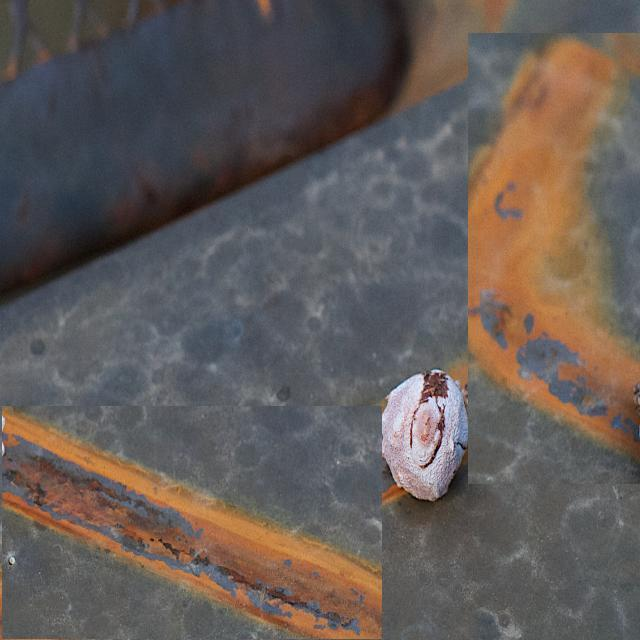Corrosion: (2, 408, 381, 640), (470, 37, 640, 460)
